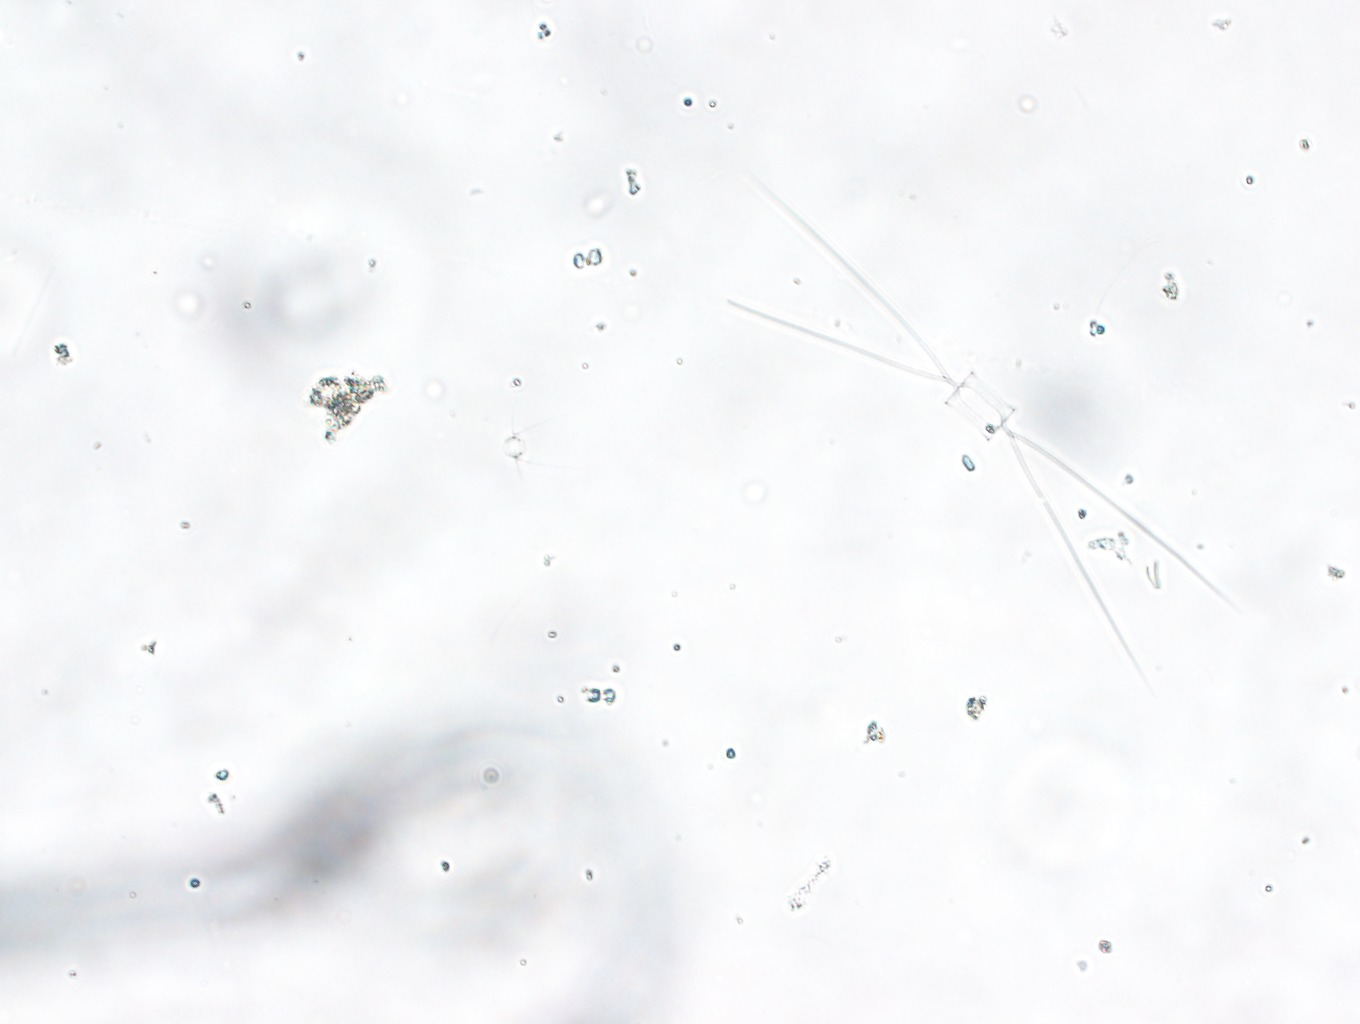chaetoceros: (726, 176, 1242, 677)
